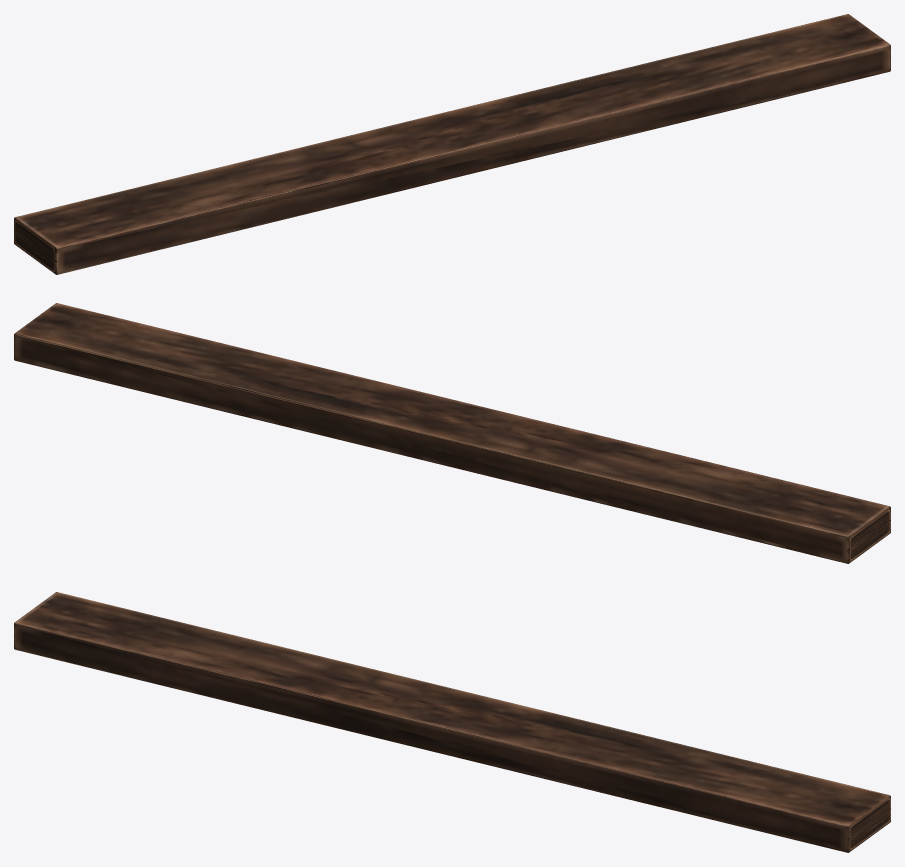
The model's file is cleaned.glb.
3 views of the same model, one above another, from view 1: azimuth 30°, elevation 25°; view 2: azimuth 150°, elevation 25°; view 3: azimuth 330°, elevation 25° (orthographic).
Parts seen in each view (by area): view 1: M7 floor-b-m7; view 2: M7 floor-b-m7; view 3: M7 floor-b-m7.
Boxes of the visible parts, bbox=[...] form: M7 floor-b-m7: bbox=[14, 14, 890, 274]; M7 floor-b-m7: bbox=[14, 303, 890, 563]; M7 floor-b-m7: bbox=[14, 592, 890, 852].
Bounding box in the file's own units: 0.898 × 0.028 × 0.0795.
1 material, 1 textured.
